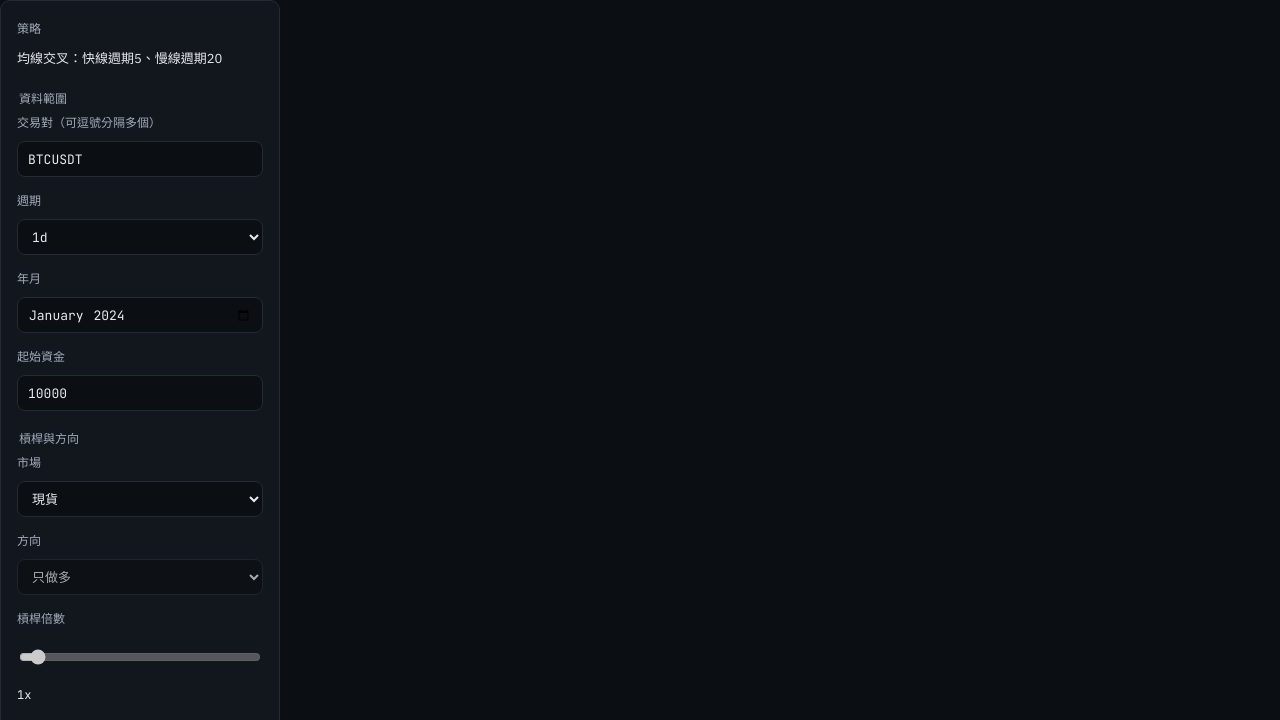
Test: Backtest › 輸入逗號分隔的多個交易對時，各自呼叫一次 run_backtest_command 並各自顯示結果
Expected: the text "均線交叉：快線週期5、慢線週期20" is shown, [17,50,222,67]
Replace the text in the field labelled "交易對（可逗號分隔多個）" with "BTCUSDT, ETHUSDT" at (140, 159), box [17,141,263,177]
(page scrolled)
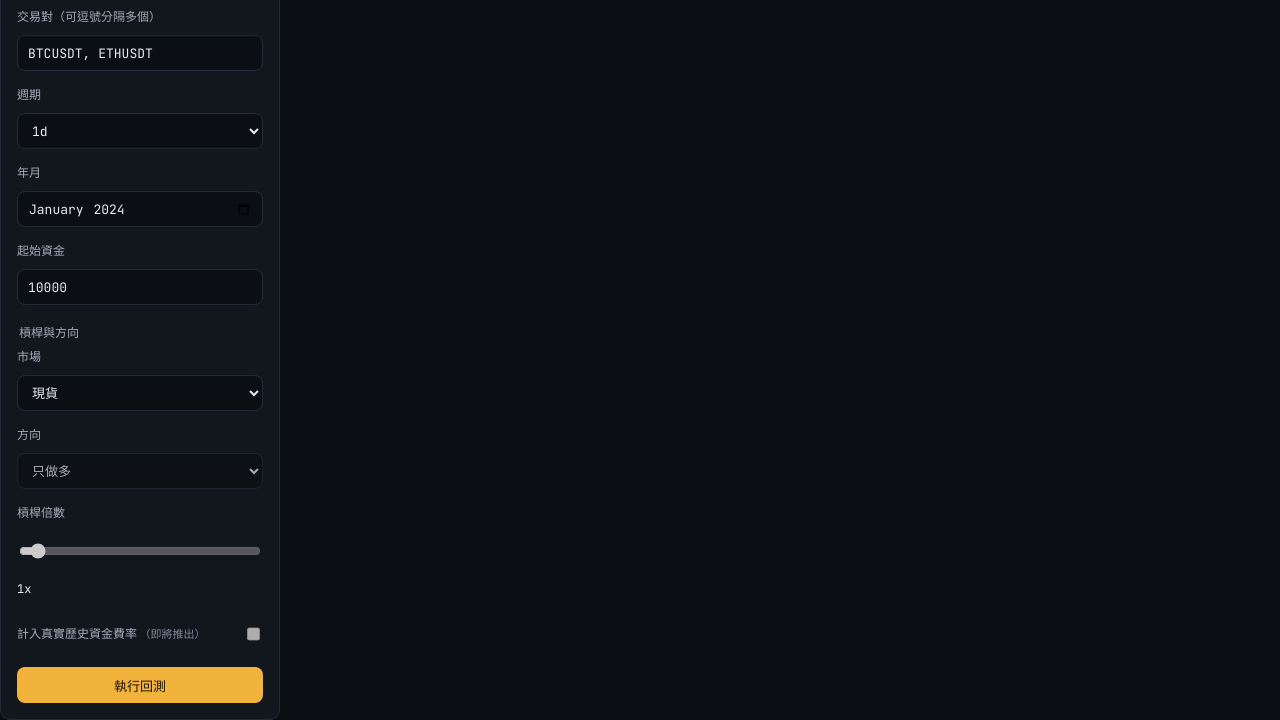
Click the button "執行回測".
click(140, 685)  # box [17,667,263,703]
(page scrolled)
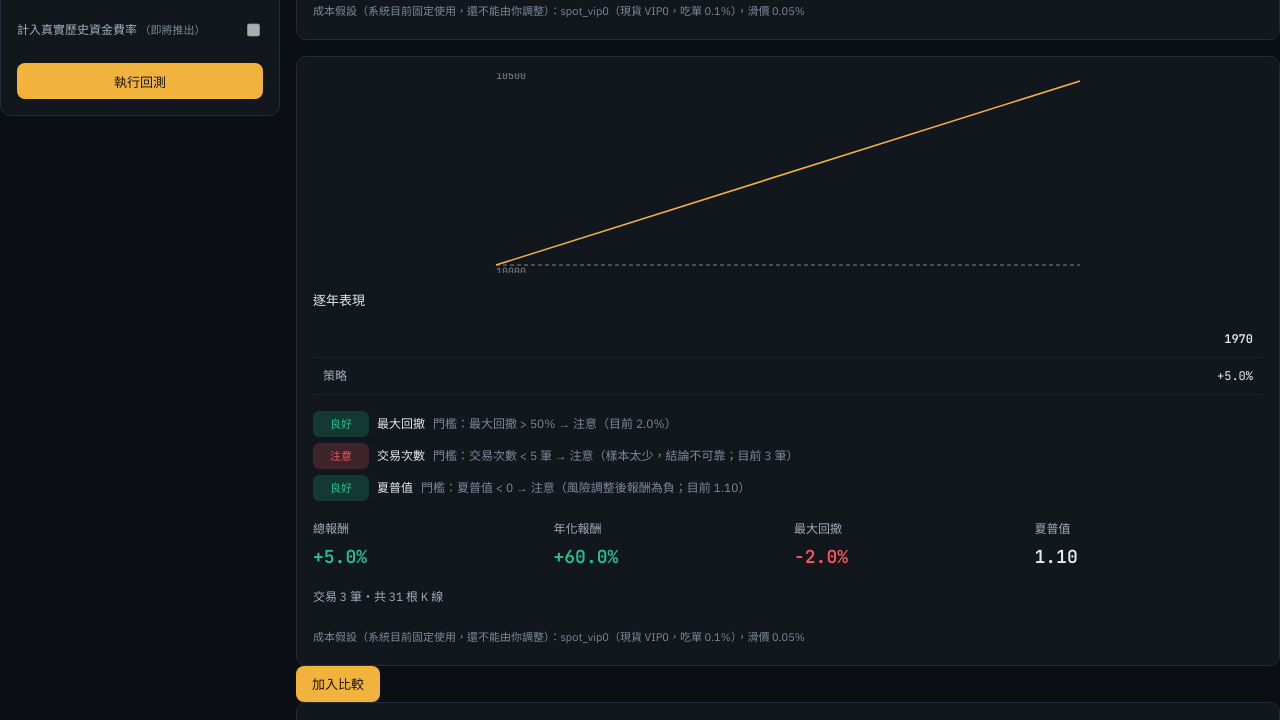
Expected: the element named "回測結果：ETHUSDT" is shown
